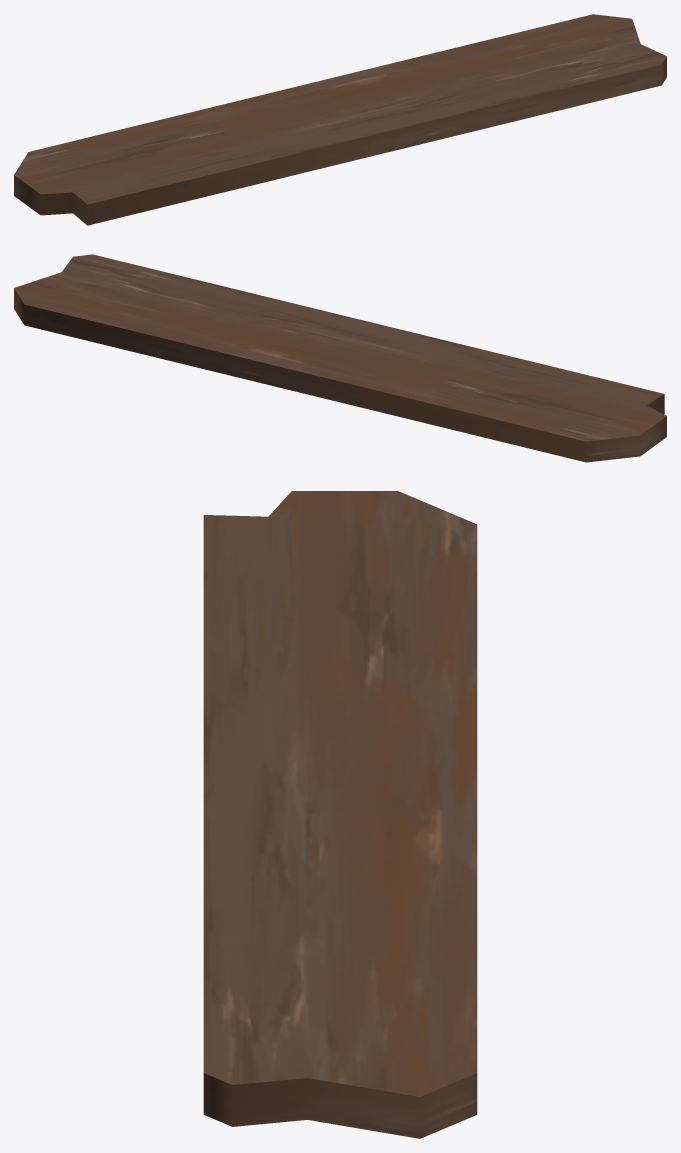
The model's file is FSCPlank1.fbx.
3 views of the same model, one above another, from view 1: azimuth 30°, elevation 25°; view 2: azimuth 150°, elevation 25°; view 3: azimuth 270°, elevation 25° (orthographic). The views are drawn at different scales.
Visible parts, largest first — view 1: Cube; view 2: Cube; view 3: Cube.
Boxes of the visible parts, x1=… form: Cube: x1=14, y1=14, x2=666, y2=225; Cube: x1=14, y1=254, x2=666, y2=462; Cube: x1=203, y1=491, x2=477, y2=1138.
Bounding box in the file's own units: 1048 × 33.76 × 200.
